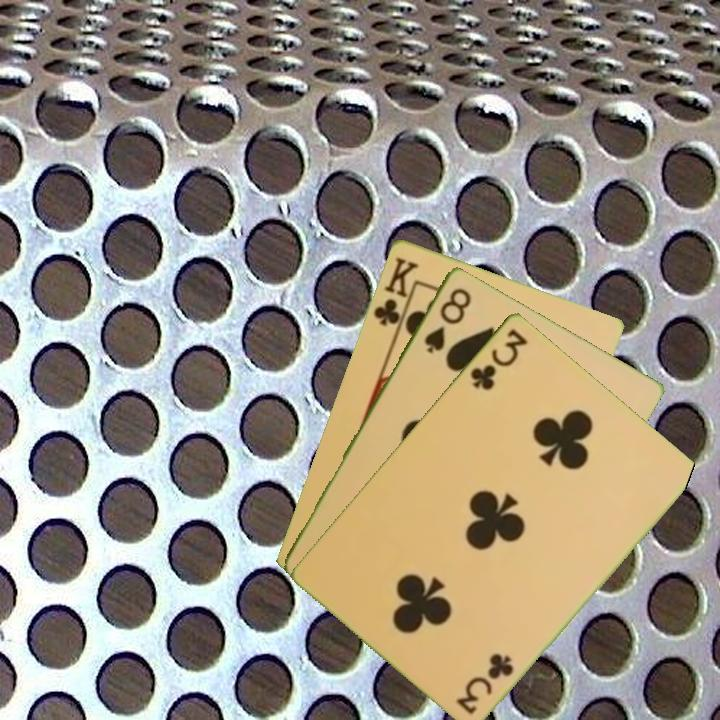3c: (466, 324, 531, 393), (454, 650, 517, 717)
8s: (420, 283, 474, 356)
Kc: (370, 252, 422, 336)
